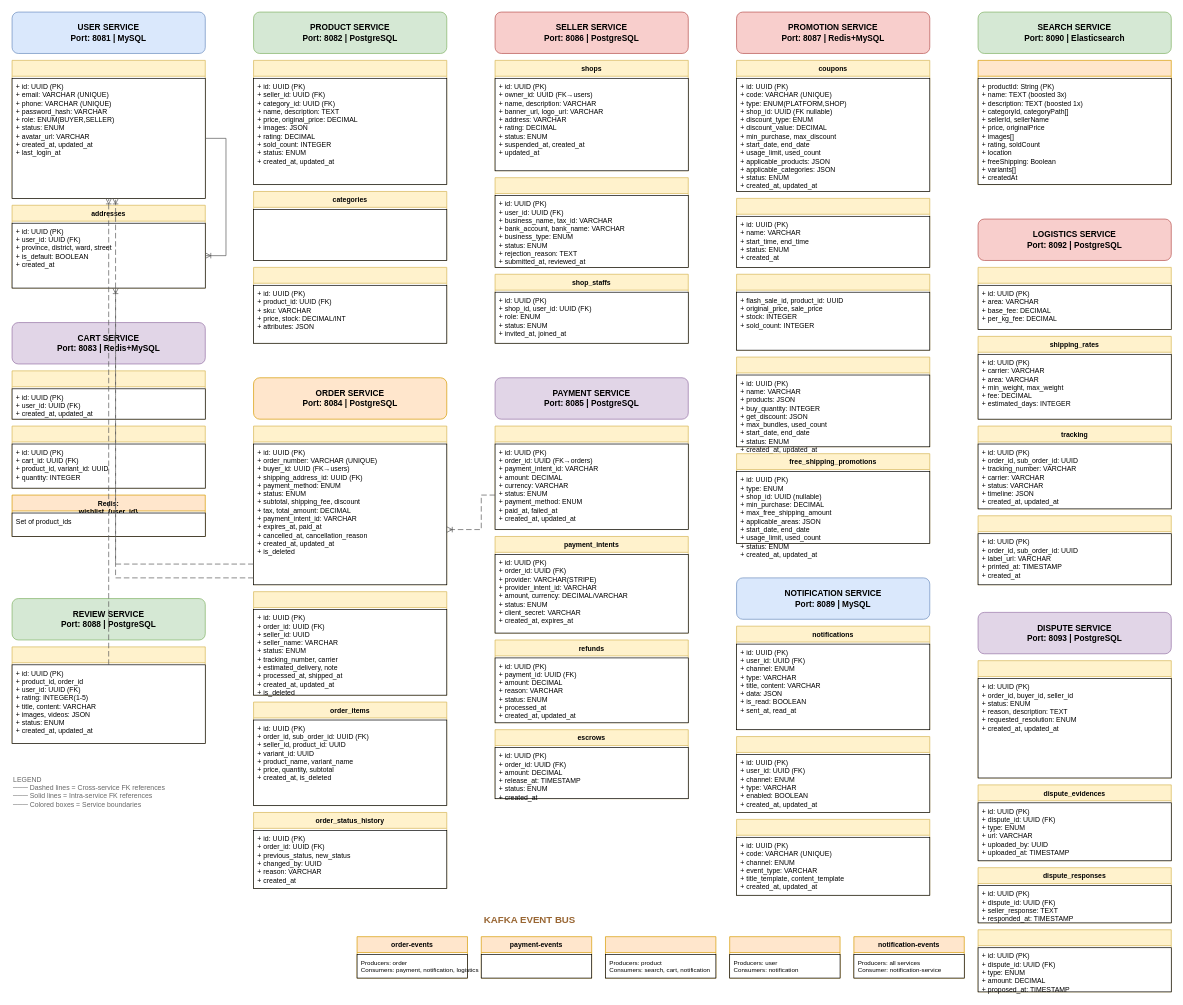
The diagram is 1183 pixels wide and 1005 high, and some of its shapes have lost their labels. The box of each missing label's shape, as (x1, y1, x2, y2) in pixels:
+ id: UUID (PK) + parent_id: UUID (FK self) + name: VARCHAR + path: VARCHAR: (253, 209, 447, 260)
bundle_deals: (736, 356, 930, 447)
cart_items: (11, 425, 205, 488)
carts: (11, 370, 205, 419)
dispute_resolutions: (977, 929, 1171, 992)
disputes: (977, 660, 1171, 778)
flash_sale_products: (736, 274, 930, 350)
flash_sales: (736, 198, 930, 267)
labels: (977, 515, 1171, 585)
notification_templates: (736, 819, 930, 895)
orders: (253, 425, 447, 585)
payments: (494, 425, 688, 530)
Producers: payment Consumers: order, notification: (481, 954, 592, 978)
product-events: (605, 936, 716, 978)
product_documents: (977, 60, 1171, 185)
product_variants: (253, 267, 447, 343)
products: (253, 60, 447, 185)
reviews: (11, 646, 205, 743)
seller_applications: (494, 177, 688, 267)
shipping_fees: (977, 267, 1171, 329)
sub_orders: (253, 591, 447, 695)
user-events: (729, 936, 840, 978)
user_preferences: (736, 736, 930, 812)
users: (11, 60, 205, 198)
